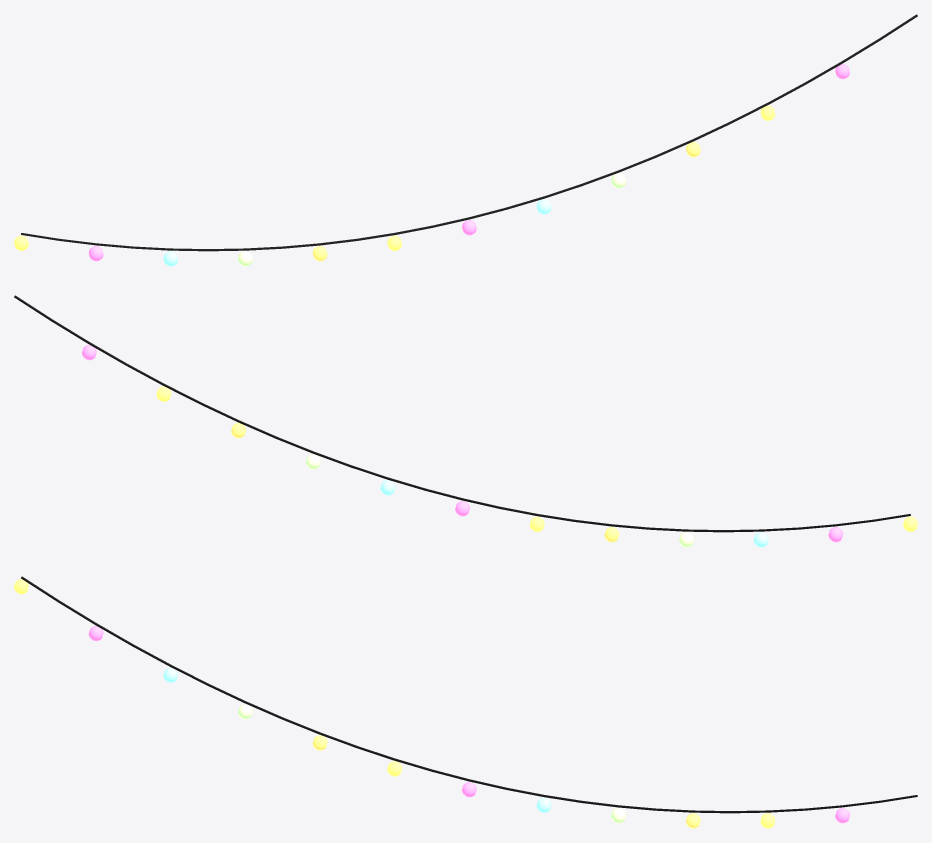
The model's file is string_lights.glb.
The picture shows the model from 3 angles, top to bottom: view 1: azimuth 30°, elevation 25°; view 2: azimuth 150°, elevation 25°; view 3: azimuth 330°, elevation 25°; orthographic projection.
Parts seen in each view (by area): view 1: string_lights; view 2: string_lights; view 3: string_lights.
Part boxes in pixels (x1=…): string_lights: x1=14, y1=14, x2=917, y2=266; string_lights: x1=14, y1=295, x2=917, y2=547; string_lights: x1=14, y1=576, x2=917, y2=828.
Size of the model in its own units: 6.05 by 0.7097 by 0.09.
